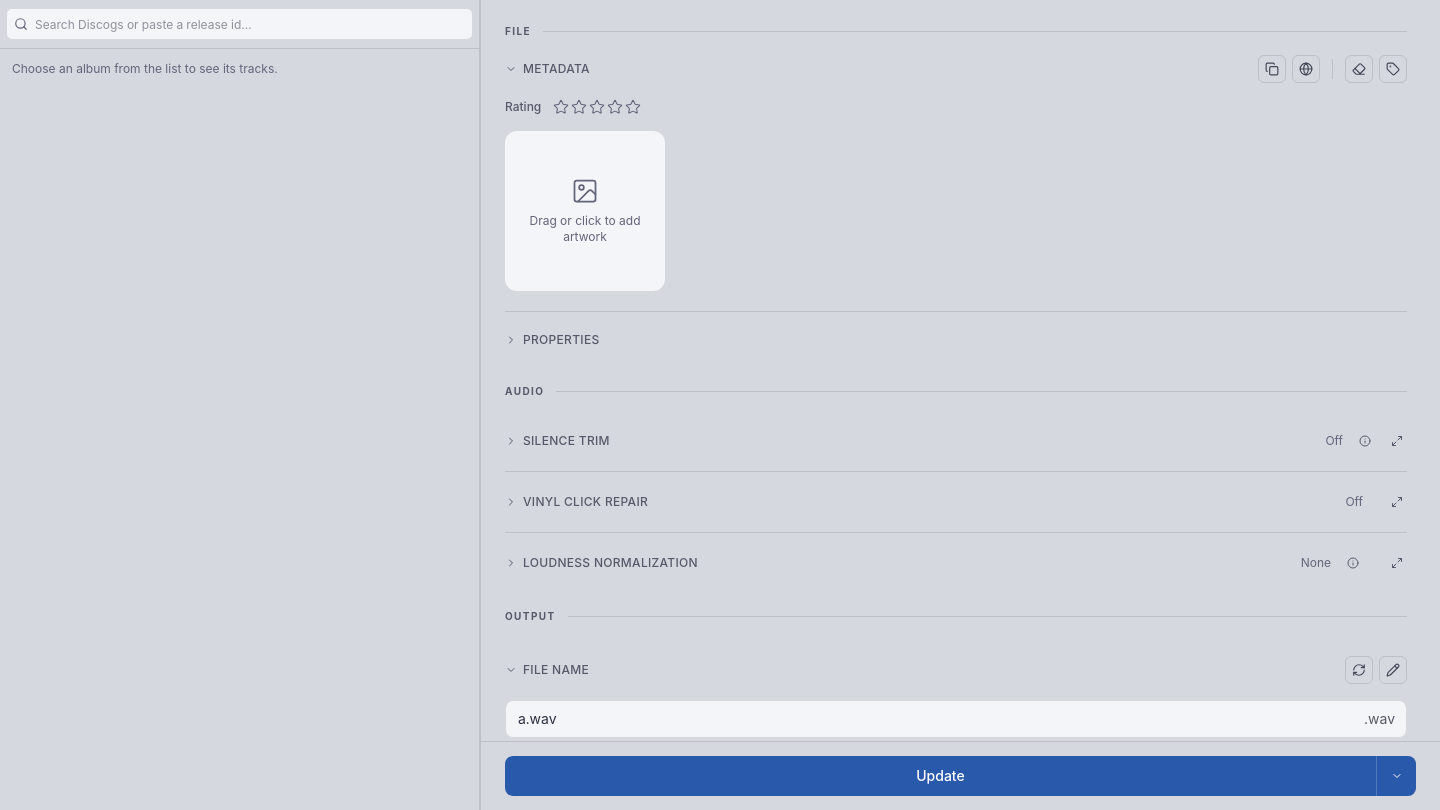
Editor properties panel › renders the probed audio facts once expanded
Click the button "Properties" at (561, 340), box [505,326,1407,354]
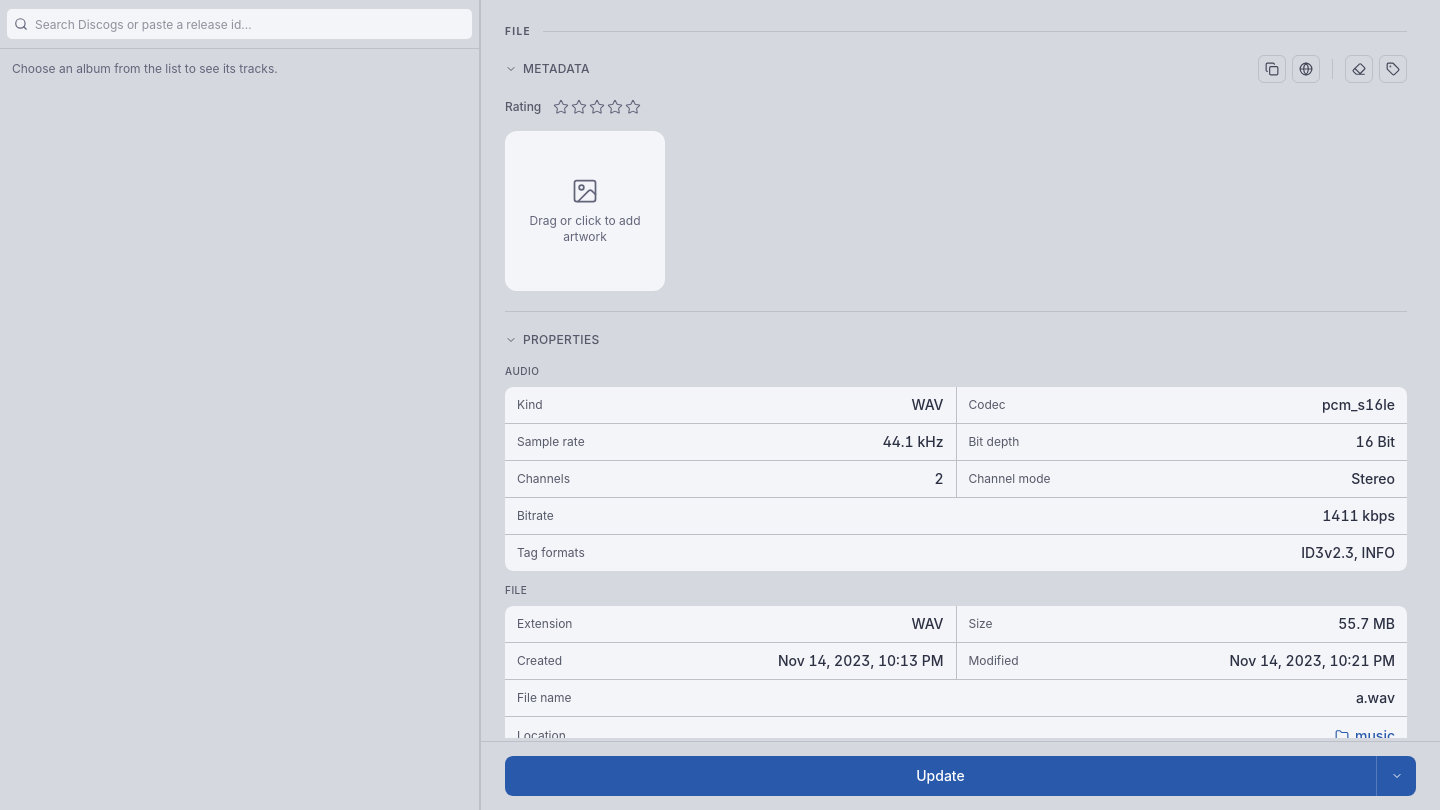
expect the element with test id "property-sampleRate" shows "44.1 kHz": met, box [883,433,944,450]
expect the element with test id "property-bitDepth" shows "16 Bit": met, box [1356,433,1395,450]
expect the element with test id "property-channelMode" shows "Stereo": met, box [1351,470,1395,487]
